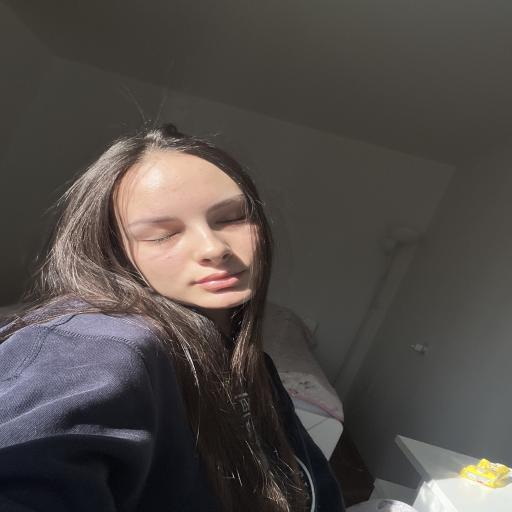marija: (116, 152, 267, 307)
